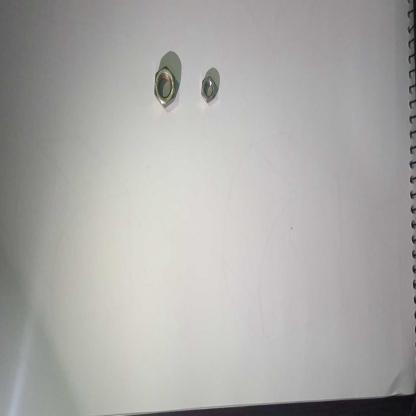NUTS: (152, 64, 180, 112), (198, 69, 218, 108)
